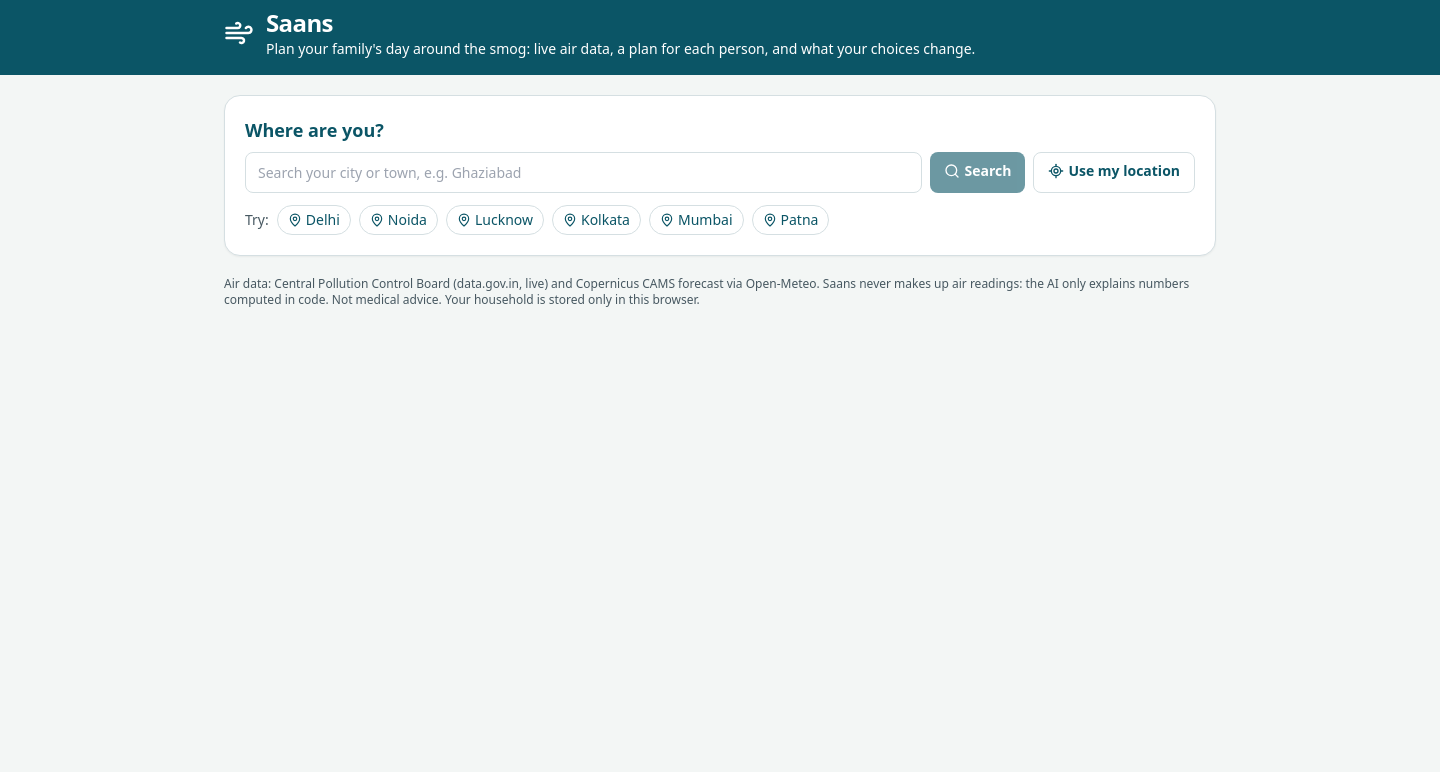
Saans › commute compares options with computed savings
Click the button "Delhi": (314, 220) [277,205,351,235]
(page scrolled)
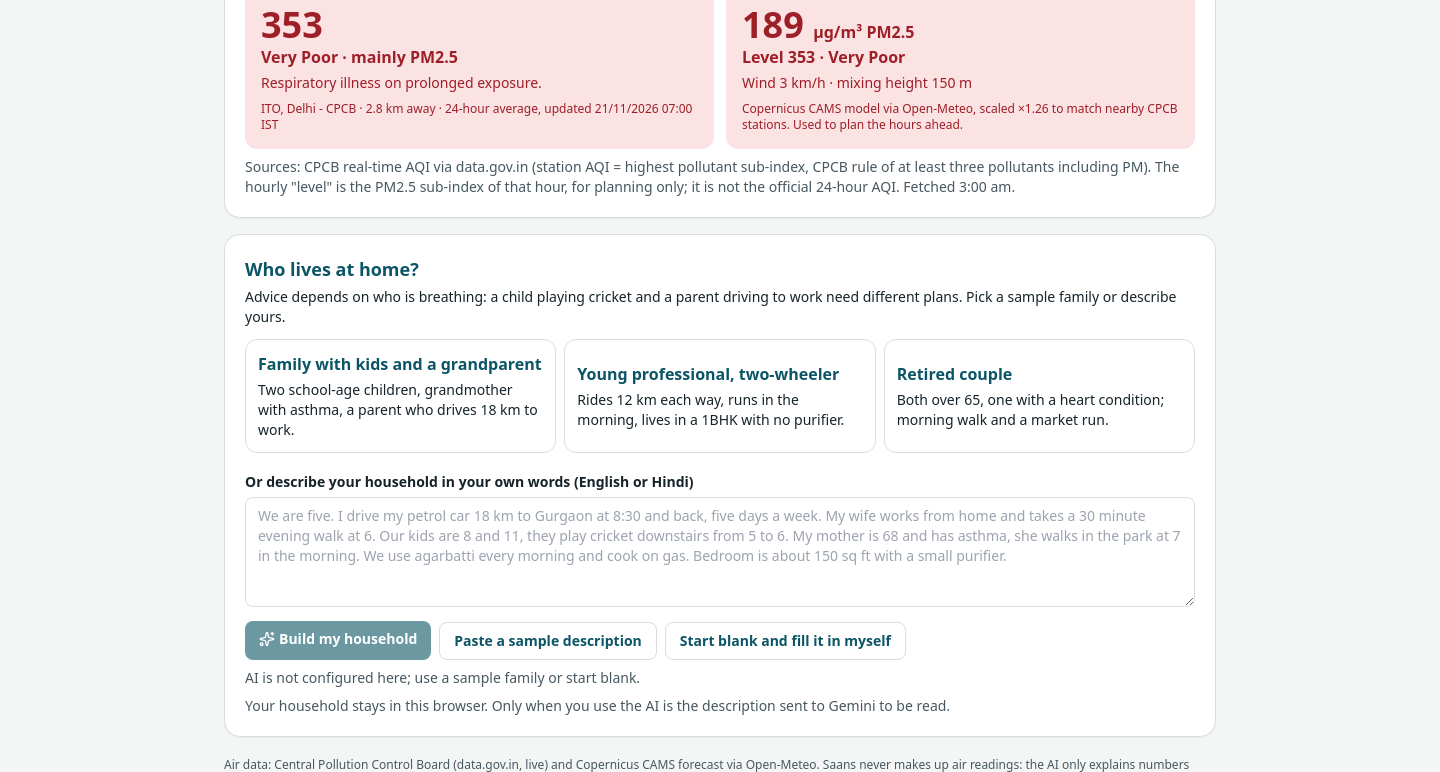
Click the button "Family with kids and a grandparent": (401, 396) [245,339,556,453]
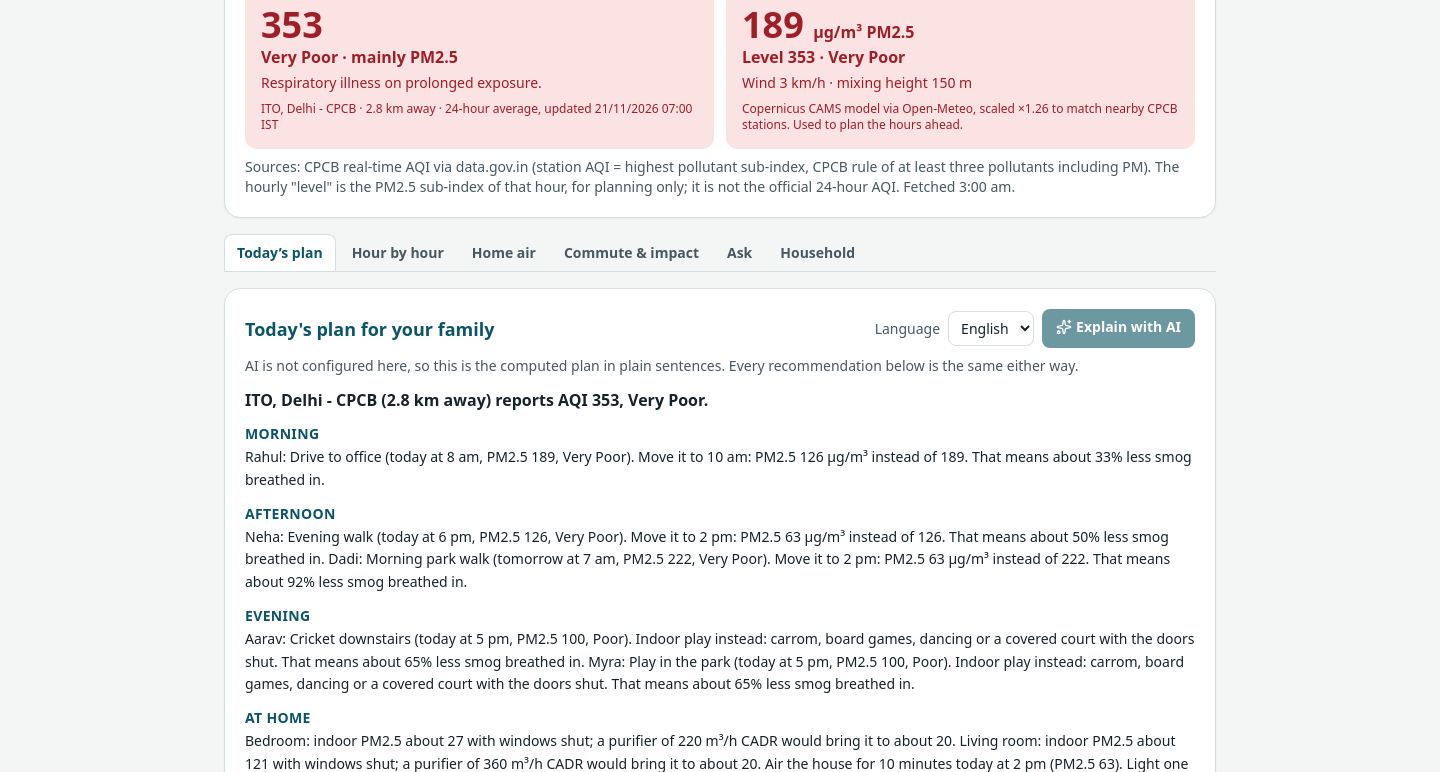
Check: the heading "Today's plan for your family" is shown, box [245,314,494,342]
Click the tab "Commute & impact": (632, 252) [552,234,711,271]
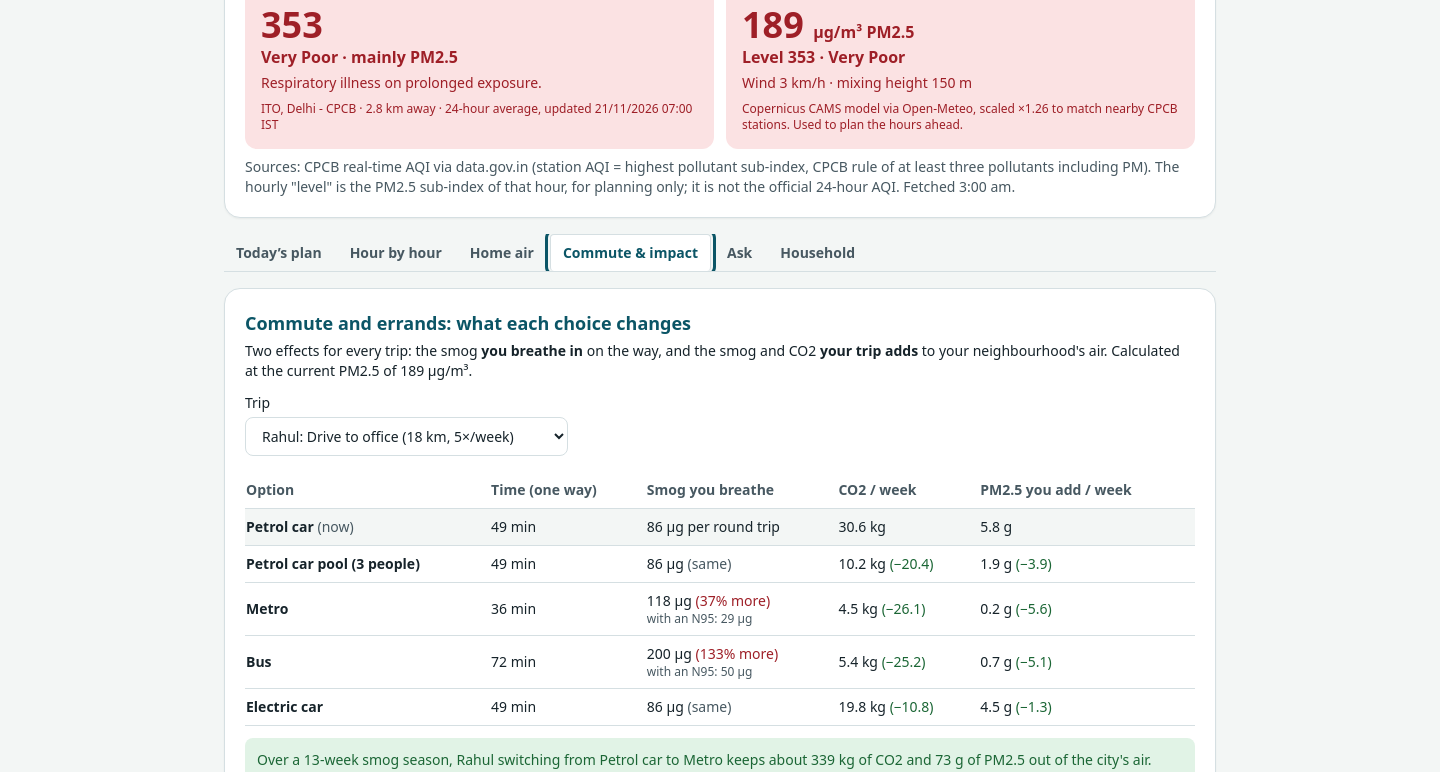
Check: the column heading "Metro" is shown, box [245,582,490,636]
Check: the text "(−26.1)" is shown, box [882,599,926,618]
Select "Another trip…" in the dropdown labelled "Trip": (407, 436) [245,417,568,456]
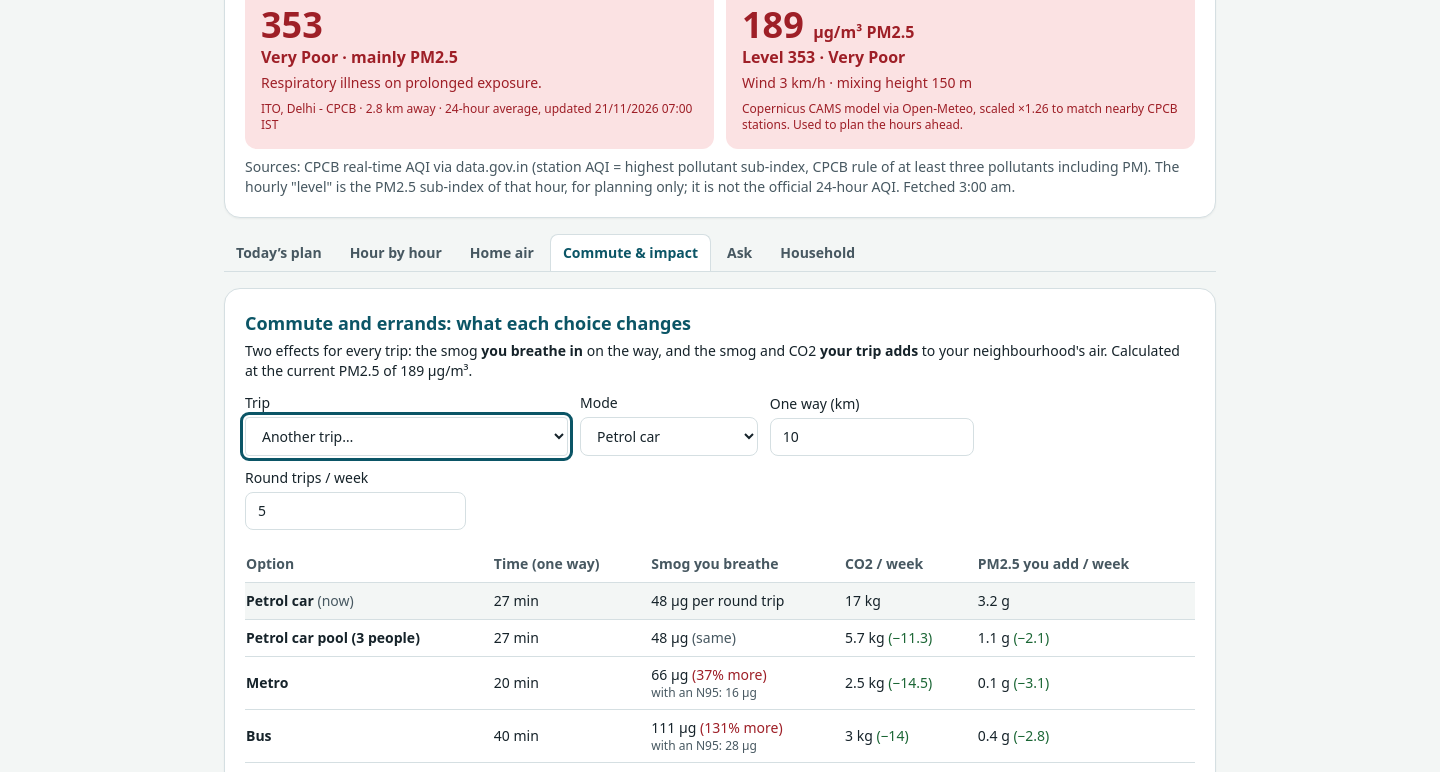
Check: the number field labelled "One way (km)" is shown, box [770,418,974,456]
